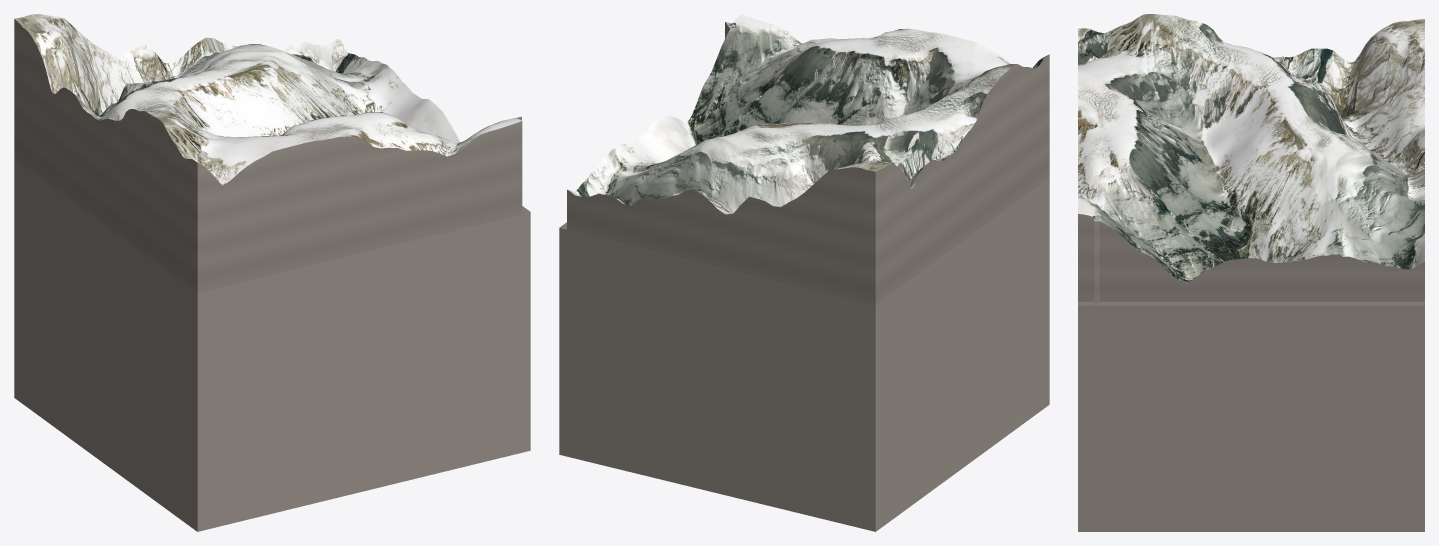
Rendered from sketchfab-mount-everest.glb.
The picture shows the model from 3 angles, left to right: view 1: azimuth 30°, elevation 25°; view 2: azimuth 150°, elevation 25°; view 3: azimuth 270°, elevation 25°; orthographic projection. The views are drawn at different scales.
Parts seen in each view (by area): view 1: Everest; view 2: Everest; view 3: Everest.
Part boxes in pixels (x1,y1,x2,y2): Everest: (14,14,530,531); Everest: (559,14,1049,531); Everest: (1078,14,1424,531).
Size of the model in its own units: 8026 by 8848 by 7644.
Materials: 3 (1 with a texture image).
